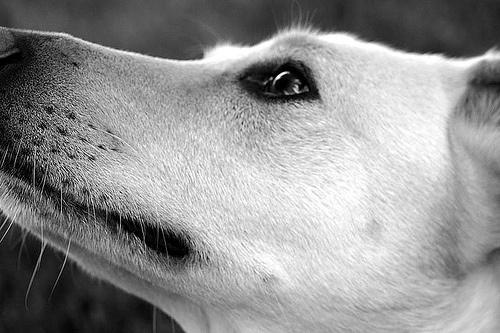dog: (1, 28, 500, 333)
